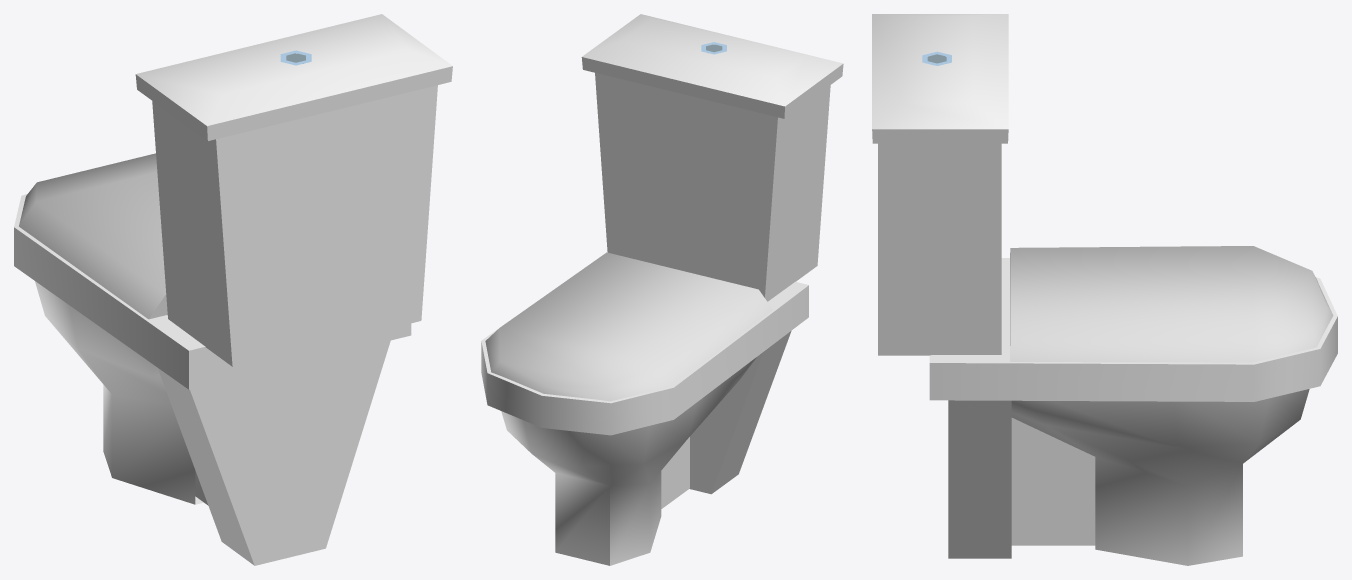
3 renders of one model, left to right at view 1: azimuth 30°, elevation 25°; view 2: azimuth 150°, elevation 25°; view 3: azimuth 270°, elevation 25°, orthographic. The views are drawn at different scales.
Parts seen in each view (by area): view 1: wc; view 2: wc; view 3: wc.
Part boxes in pixels (left/top/right/bottom): wc: left=14, top=14, right=452, bottom=565; wc: left=481, top=14, right=843, bottom=565; wc: left=872, top=14, right=1337, bottom=565.
Size of the model in its own units: 0.4168 by 0.8135 by 0.7111.
1 material, 1 textured.
